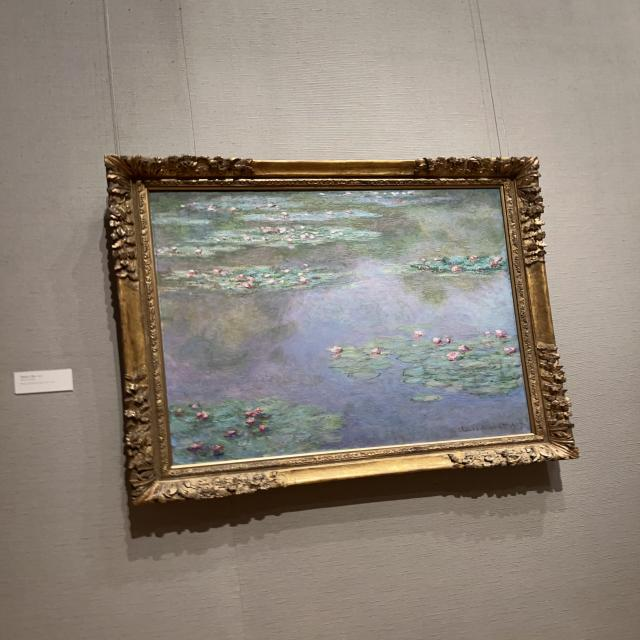lilies: (153, 191, 530, 463)
